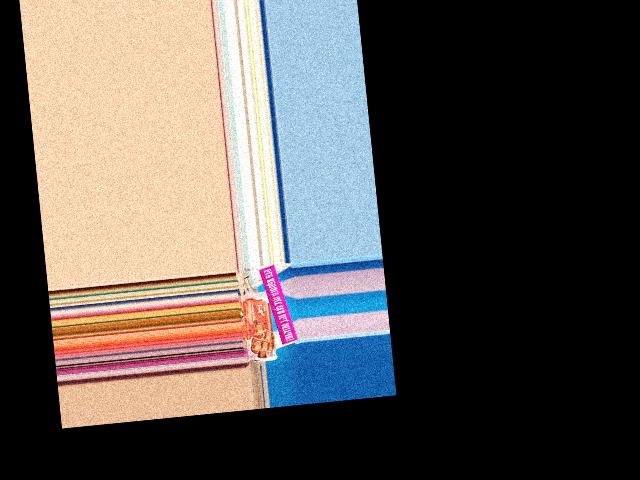chocolate: (239, 289, 278, 364)
